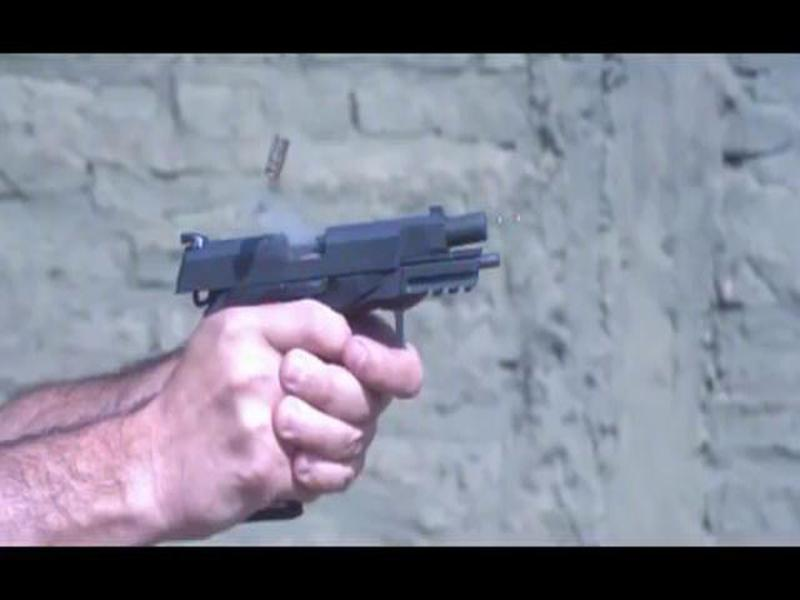Pistola: (151, 184, 557, 352)
